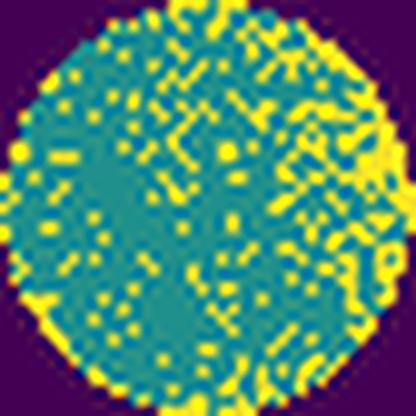Edge-Loc: (263, 13, 415, 235), (216, 354, 281, 415), (370, 237, 414, 312), (159, 0, 203, 37), (203, 0, 250, 33), (156, 388, 209, 415)
